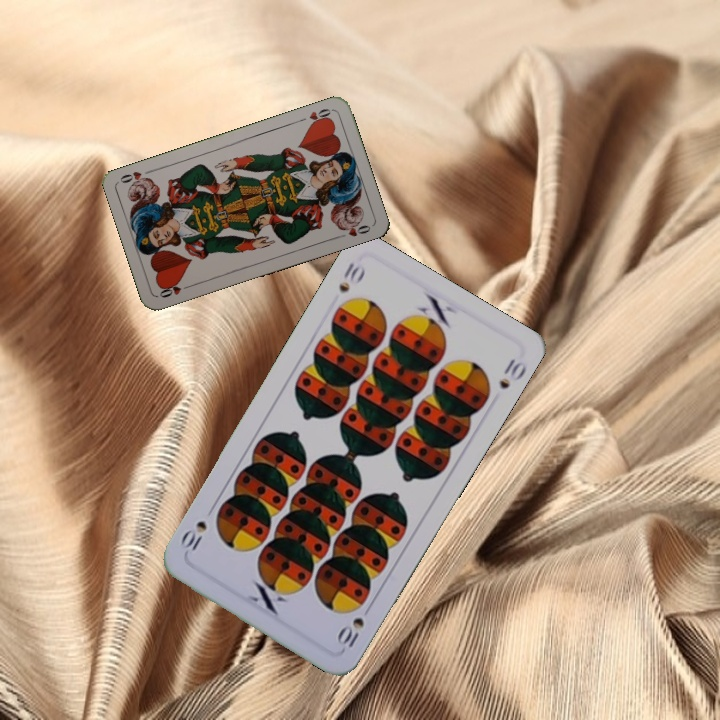HO: (295, 104, 335, 128), (155, 279, 194, 300)
S10: (332, 613, 367, 653), (334, 258, 368, 295)
